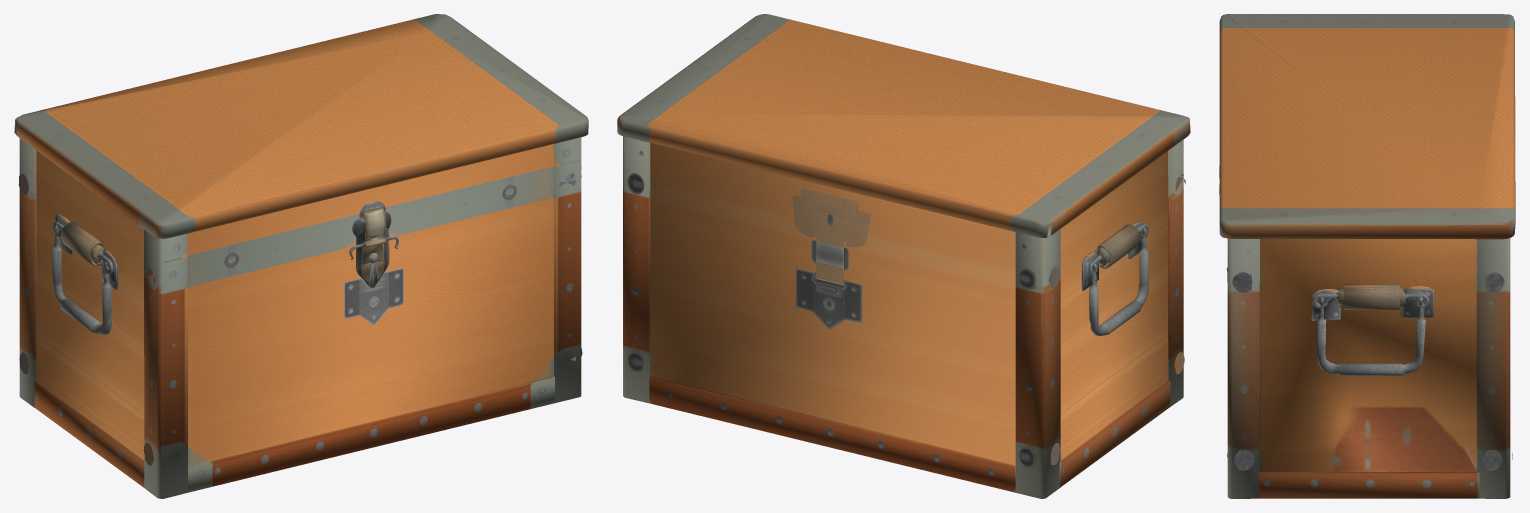
Rendered from tack_trunk.glb.
3 views of the same model, side by side, from view 1: azimuth 30°, elevation 25°; view 2: azimuth 150°, elevation 25°; view 3: azimuth 270°, elevation 25° (orthographic).
Visible parts, largest first — view 1: tack_trunk; view 2: tack_trunk; view 3: tack_trunk.
Boxes of the visible parts, bbox=[...] form: tack_trunk: bbox=[14, 14, 588, 498]; tack_trunk: bbox=[617, 14, 1190, 498]; tack_trunk: bbox=[1219, 14, 1515, 498].
Bounding box in the file's own units: 0.9255 × 0.55 × 0.5311.
Materials: 1 (1 with a texture image).
